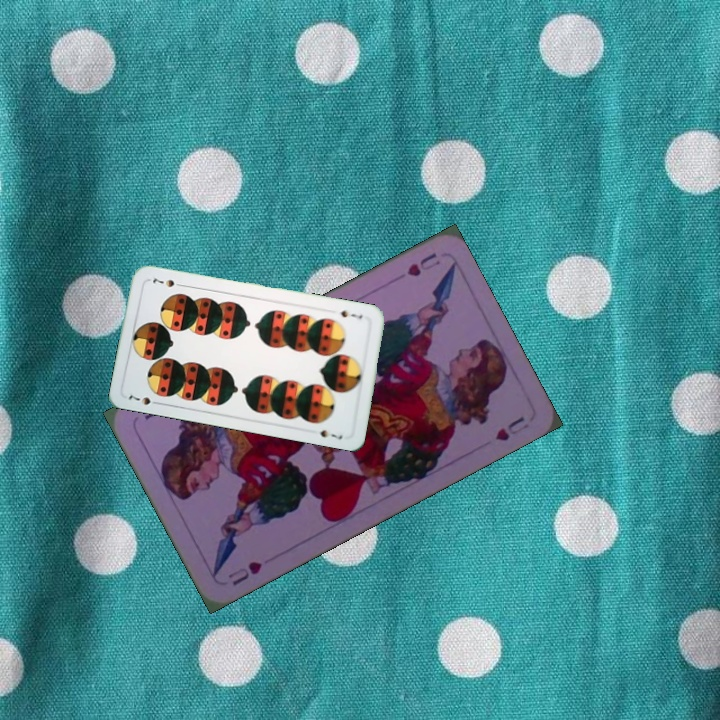HU: (224, 557, 265, 589), (402, 248, 443, 280)
S7: (124, 391, 163, 408), (337, 306, 365, 321)
